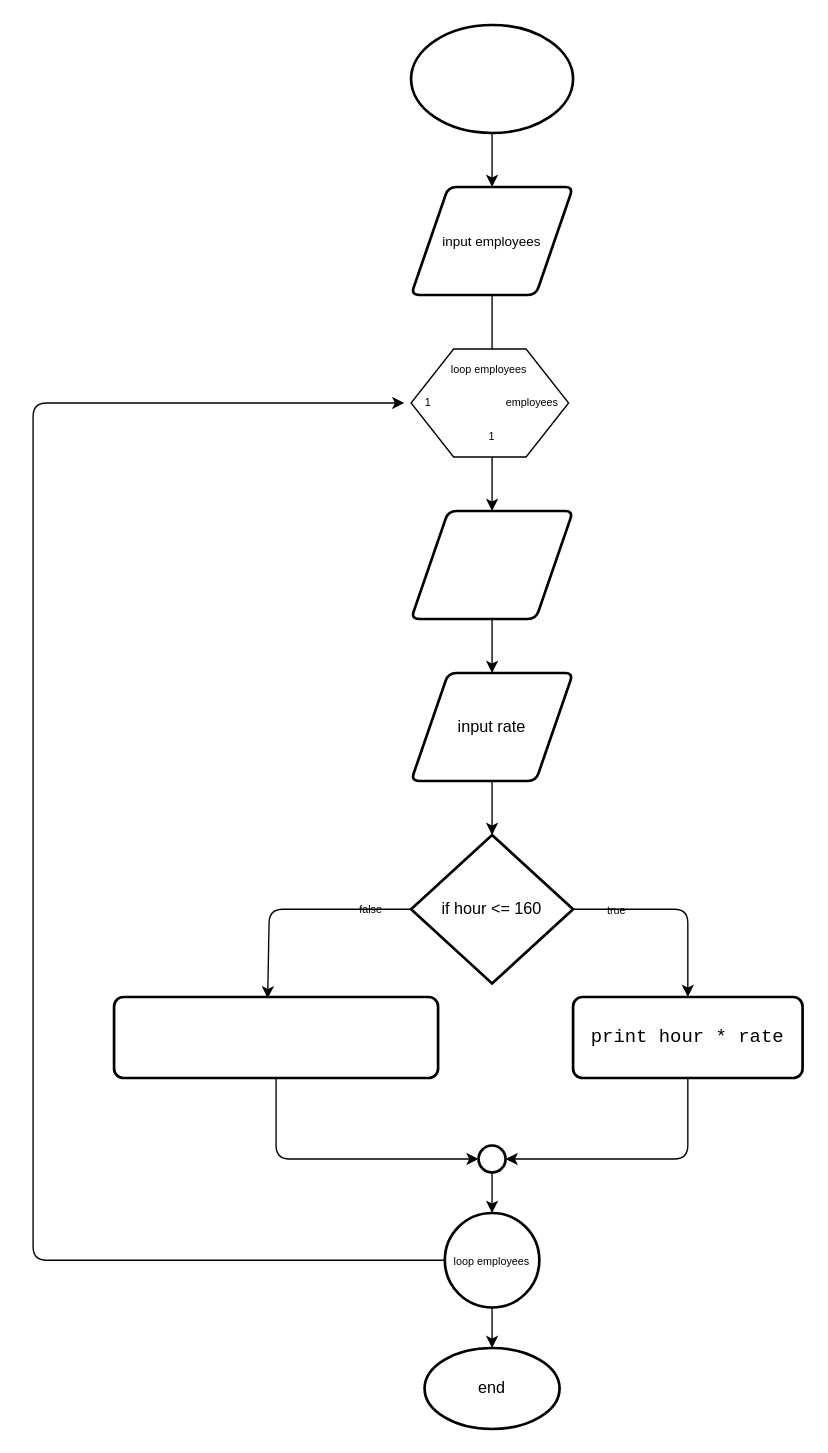
This 828x1453 diagram has some shape labels left out. Each missing label, with the box of its shape:
input hour: (409, 509, 574, 620)
print (rate * 160) + ((hour - 160) * rate * 1.5): (112, 995, 439, 1079)
start: (409, 23, 574, 134)
